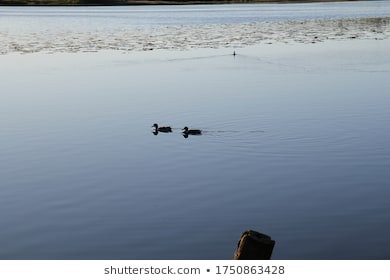duck: (150, 119, 174, 138)
